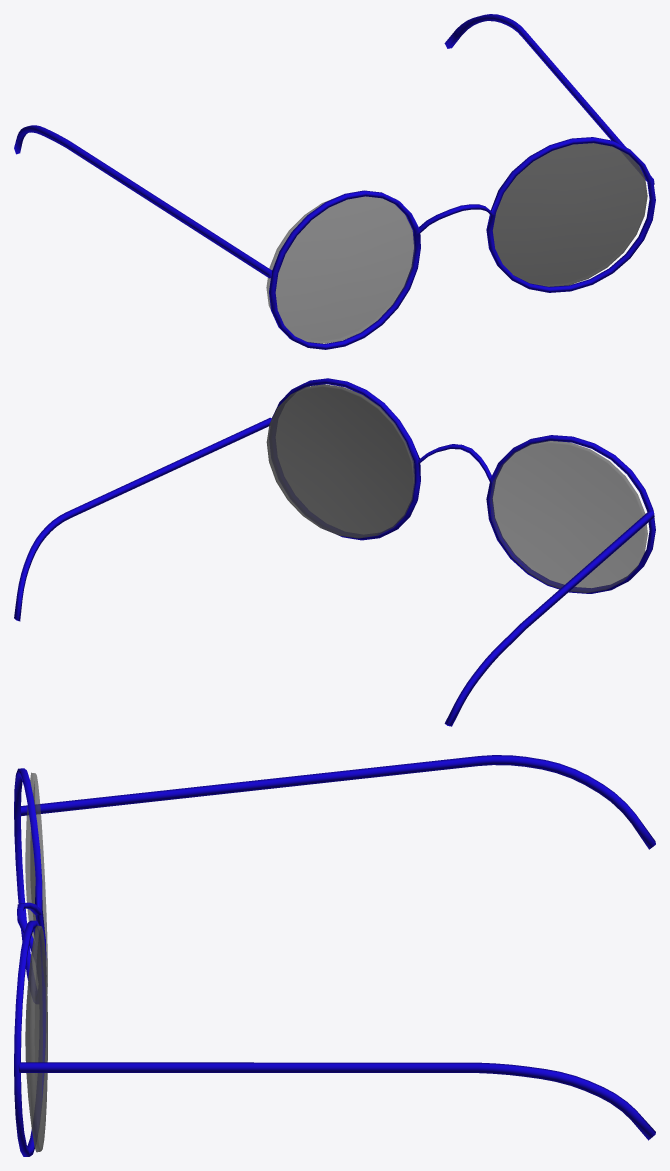
File: blue.glb
3 views of the same model, one above another, from view 1: azimuth 30°, elevation 25°; view 2: azimuth 150°, elevation 25°; view 3: azimuth 270°, elevation 25° (orthographic). The views are drawn at different scales.
Visible parts, largest first — view 1: glasses lenses.001, glasses lenses.002, glasses lenses.003, glasses frame.002, glasses frame.001; view 2: glasses lenses.003, glasses lenses.001, glasses lenses.002, glasses frame.002, glasses frame.001; view 3: glasses frame.001, glasses frame.002, glasses lenses.001, glasses lenses.002, glasses lenses.003.
Boxes of the visible parts, bbox=[...] form: glasses lenses.001: bbox=[493, 143, 647, 286]; glasses lenses.002: bbox=[493, 143, 647, 286]; glasses lenses.003: bbox=[266, 196, 414, 343]; glasses frame.002: bbox=[14, 125, 464, 349]; glasses frame.001: bbox=[444, 14, 655, 292]; glasses lenses.003: bbox=[489, 440, 647, 592]; glasses lenses.001: bbox=[266, 384, 414, 538]; glasses lenses.002: bbox=[267, 384, 414, 537]; glasses frame.002: bbox=[444, 435, 655, 726]; glasses frame.001: bbox=[14, 378, 463, 621]; glasses frame.001: bbox=[14, 907, 655, 1156]; glasses frame.002: bbox=[14, 755, 655, 981]; glasses lenses.001: bbox=[25, 925, 47, 1152]; glasses lenses.002: bbox=[25, 926, 47, 1151]; glasses lenses.003: bbox=[25, 772, 47, 993].
Size of the model in its own units: 0.152 by 0.0478 by 0.1318.
